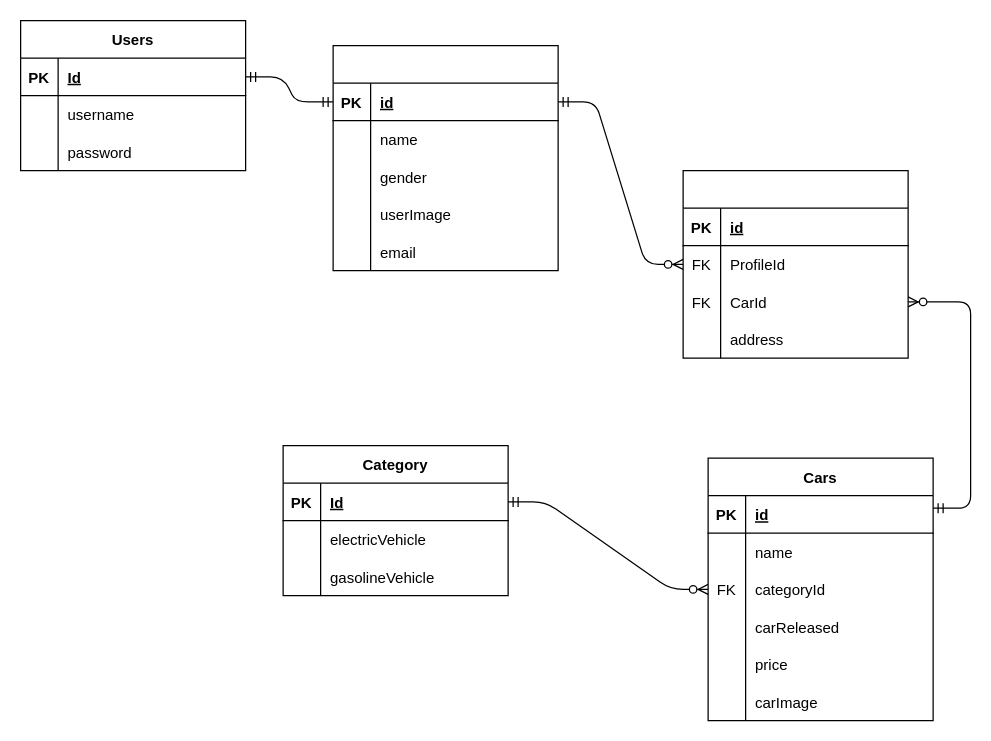
Some shapes in this 991 by 741 pixel diagram are drawn without their labels. The box of each missing label's shape, as (x1, y1, x2, y2) in pixels:
ProfileCar: (682, 169, 908, 358)
Profiles: (332, 44, 558, 271)
